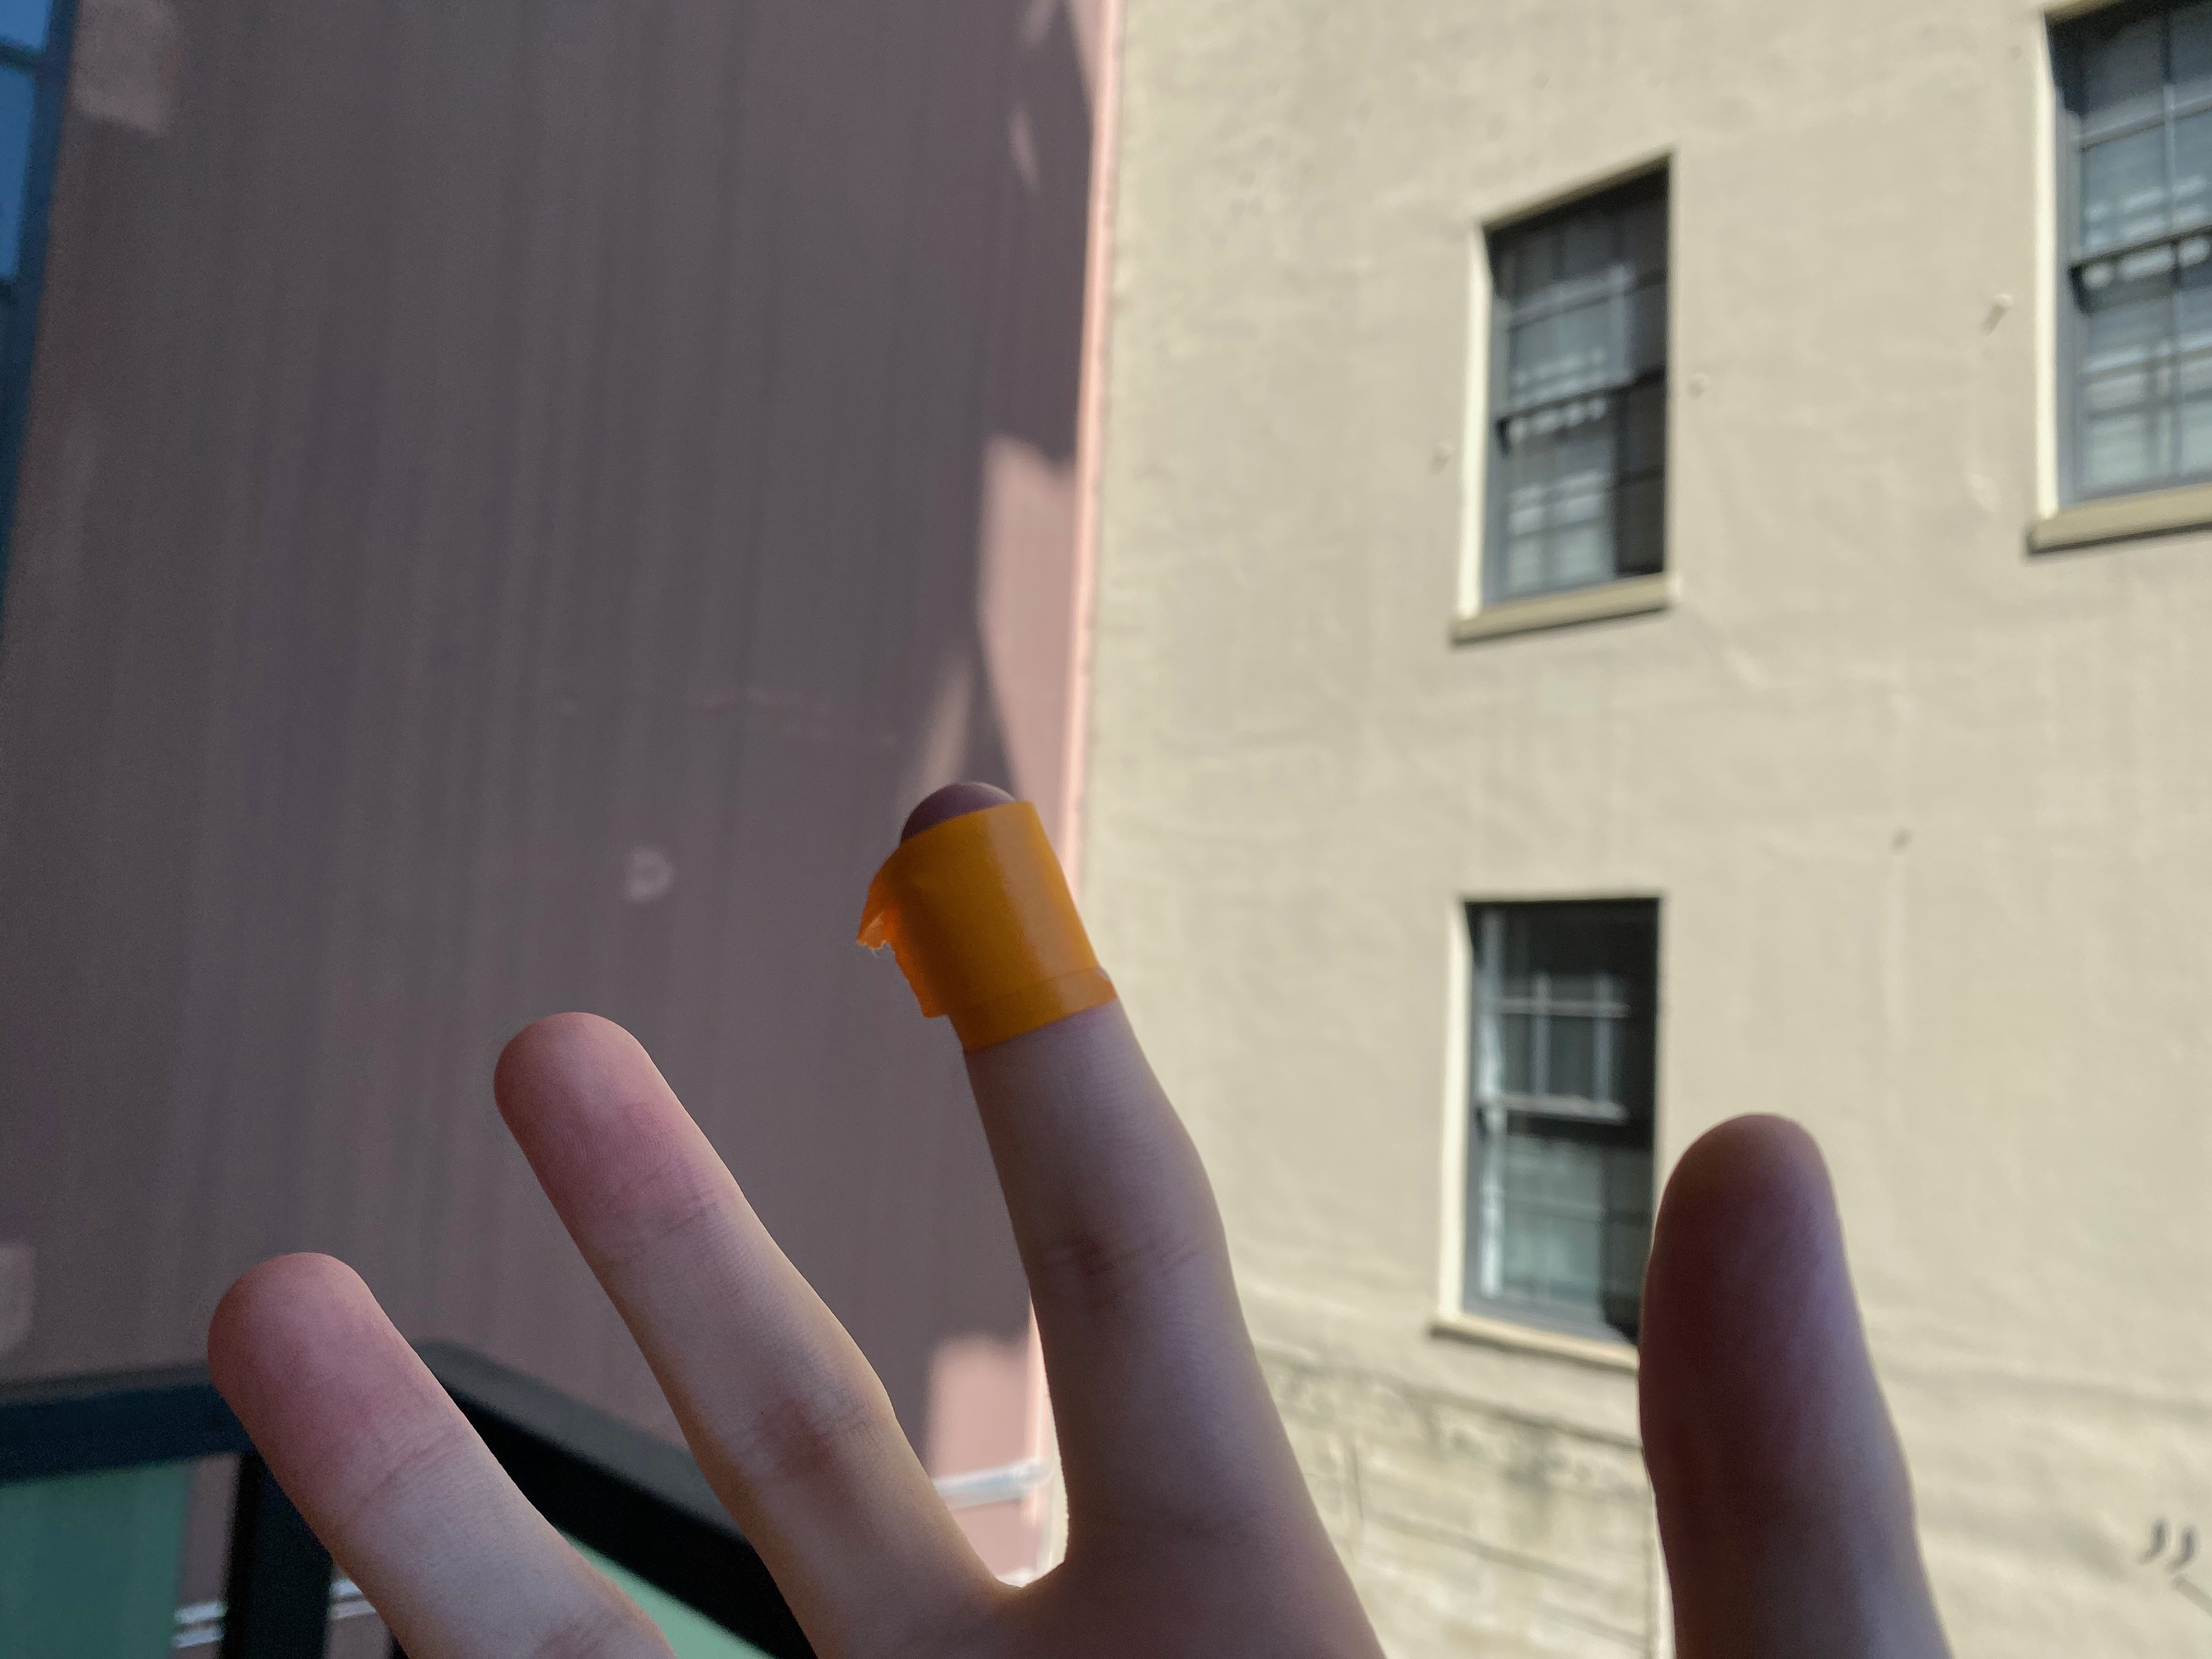fingertip: (864, 770, 1143, 1110)
